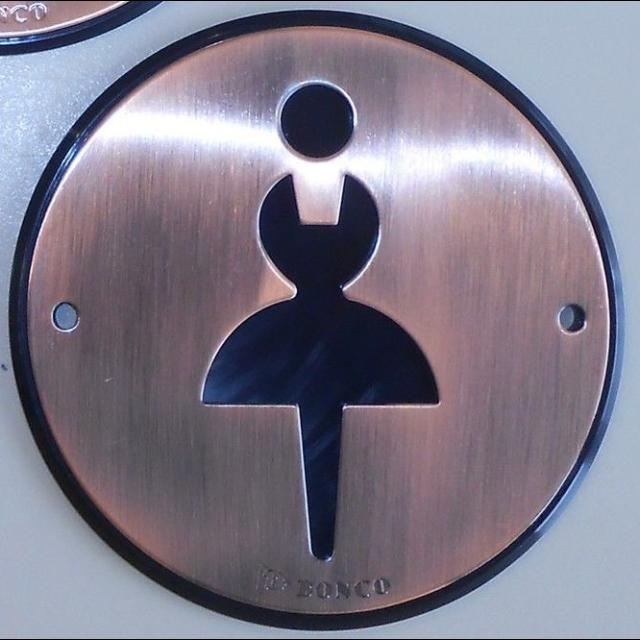wc nu: (10, 12, 619, 628)
